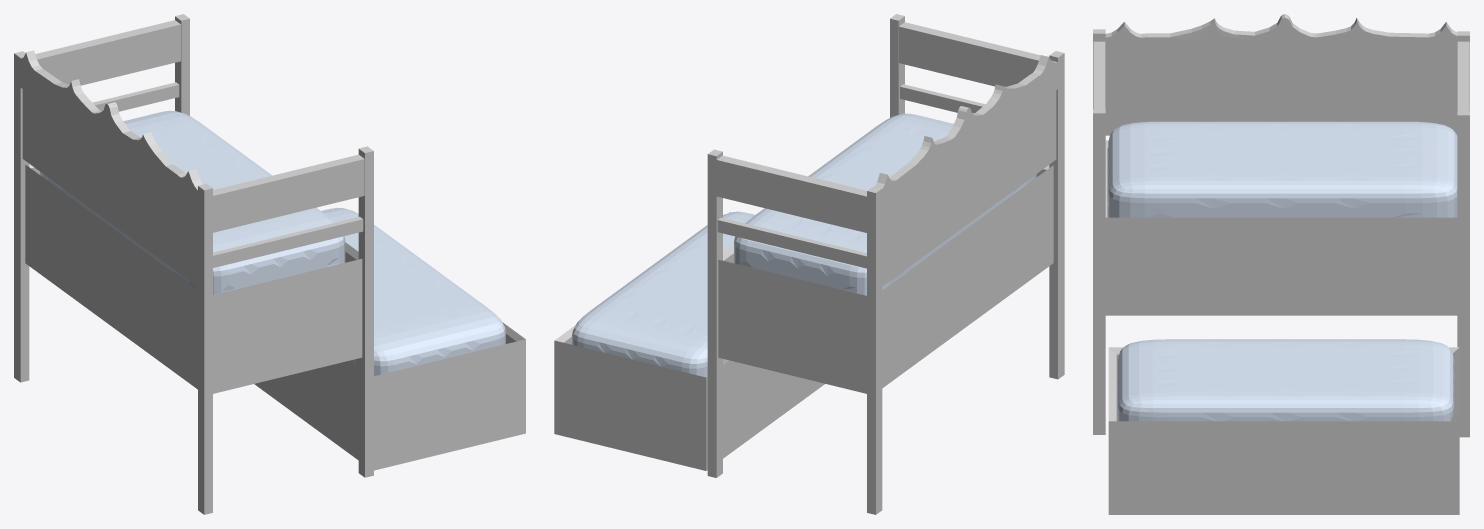
File: sh-contrib-daybed.glb
3 views of the same model, side by side, from view 1: azimuth 30°, elevation 25°; view 2: azimuth 150°, elevation 25°; view 3: azimuth 270°, elevation 25° (orthographic).
Visible parts, largest first — view 1: Cube_1, mattress; view 2: Cube_1, mattress; view 3: Cube_1, mattress.
Part boxes in pixels (x1,y1,x2,y2): Cube_1: [14, 14, 525, 514]; mattress: [40, 110, 505, 376]; Cube_1: [554, 14, 1064, 514]; mattress: [572, 113, 1036, 377]; Cube_1: [1093, 14, 1469, 514]; mattress: [1108, 121, 1457, 421].
Size of the model in its own units: 1 by 1 by 1.
